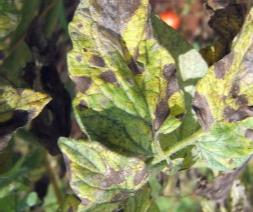Tomato Early blight leaf: (75, 0, 182, 156), (183, 0, 253, 167), (0, 82, 58, 195), (59, 142, 152, 212)
